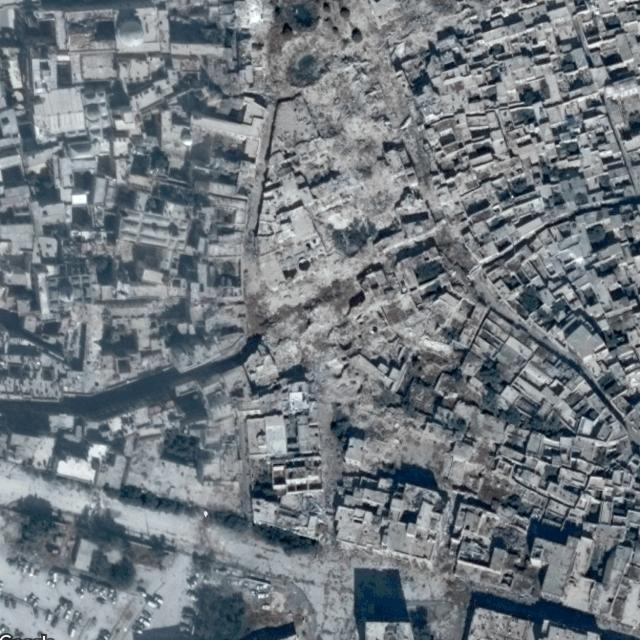damaged_building: (234, 0, 476, 470)
